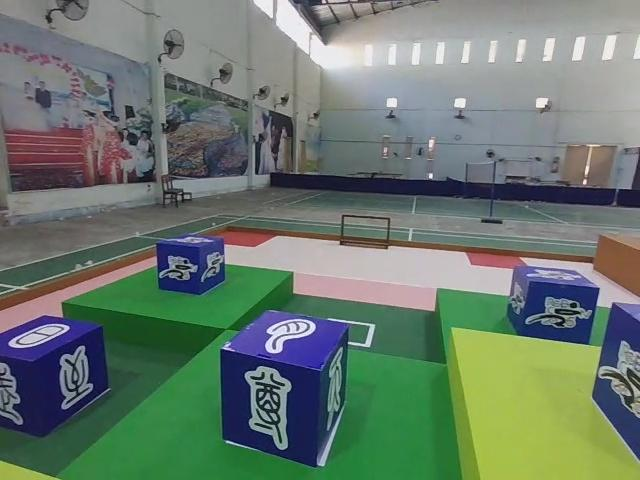R1 Blue: (593, 302, 640, 469), (507, 267, 603, 348), (158, 235, 229, 297)
R2 Fake Blue: (221, 305, 351, 470), (2, 317, 111, 440)
